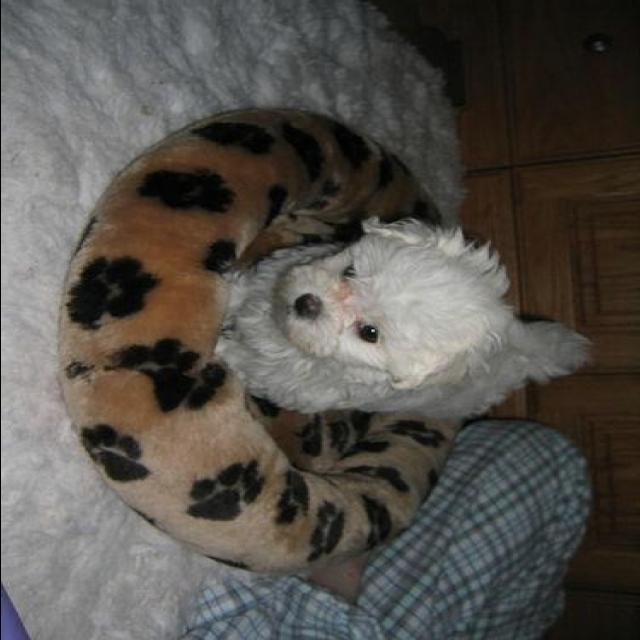maltese_dog: (217, 218, 592, 418)
